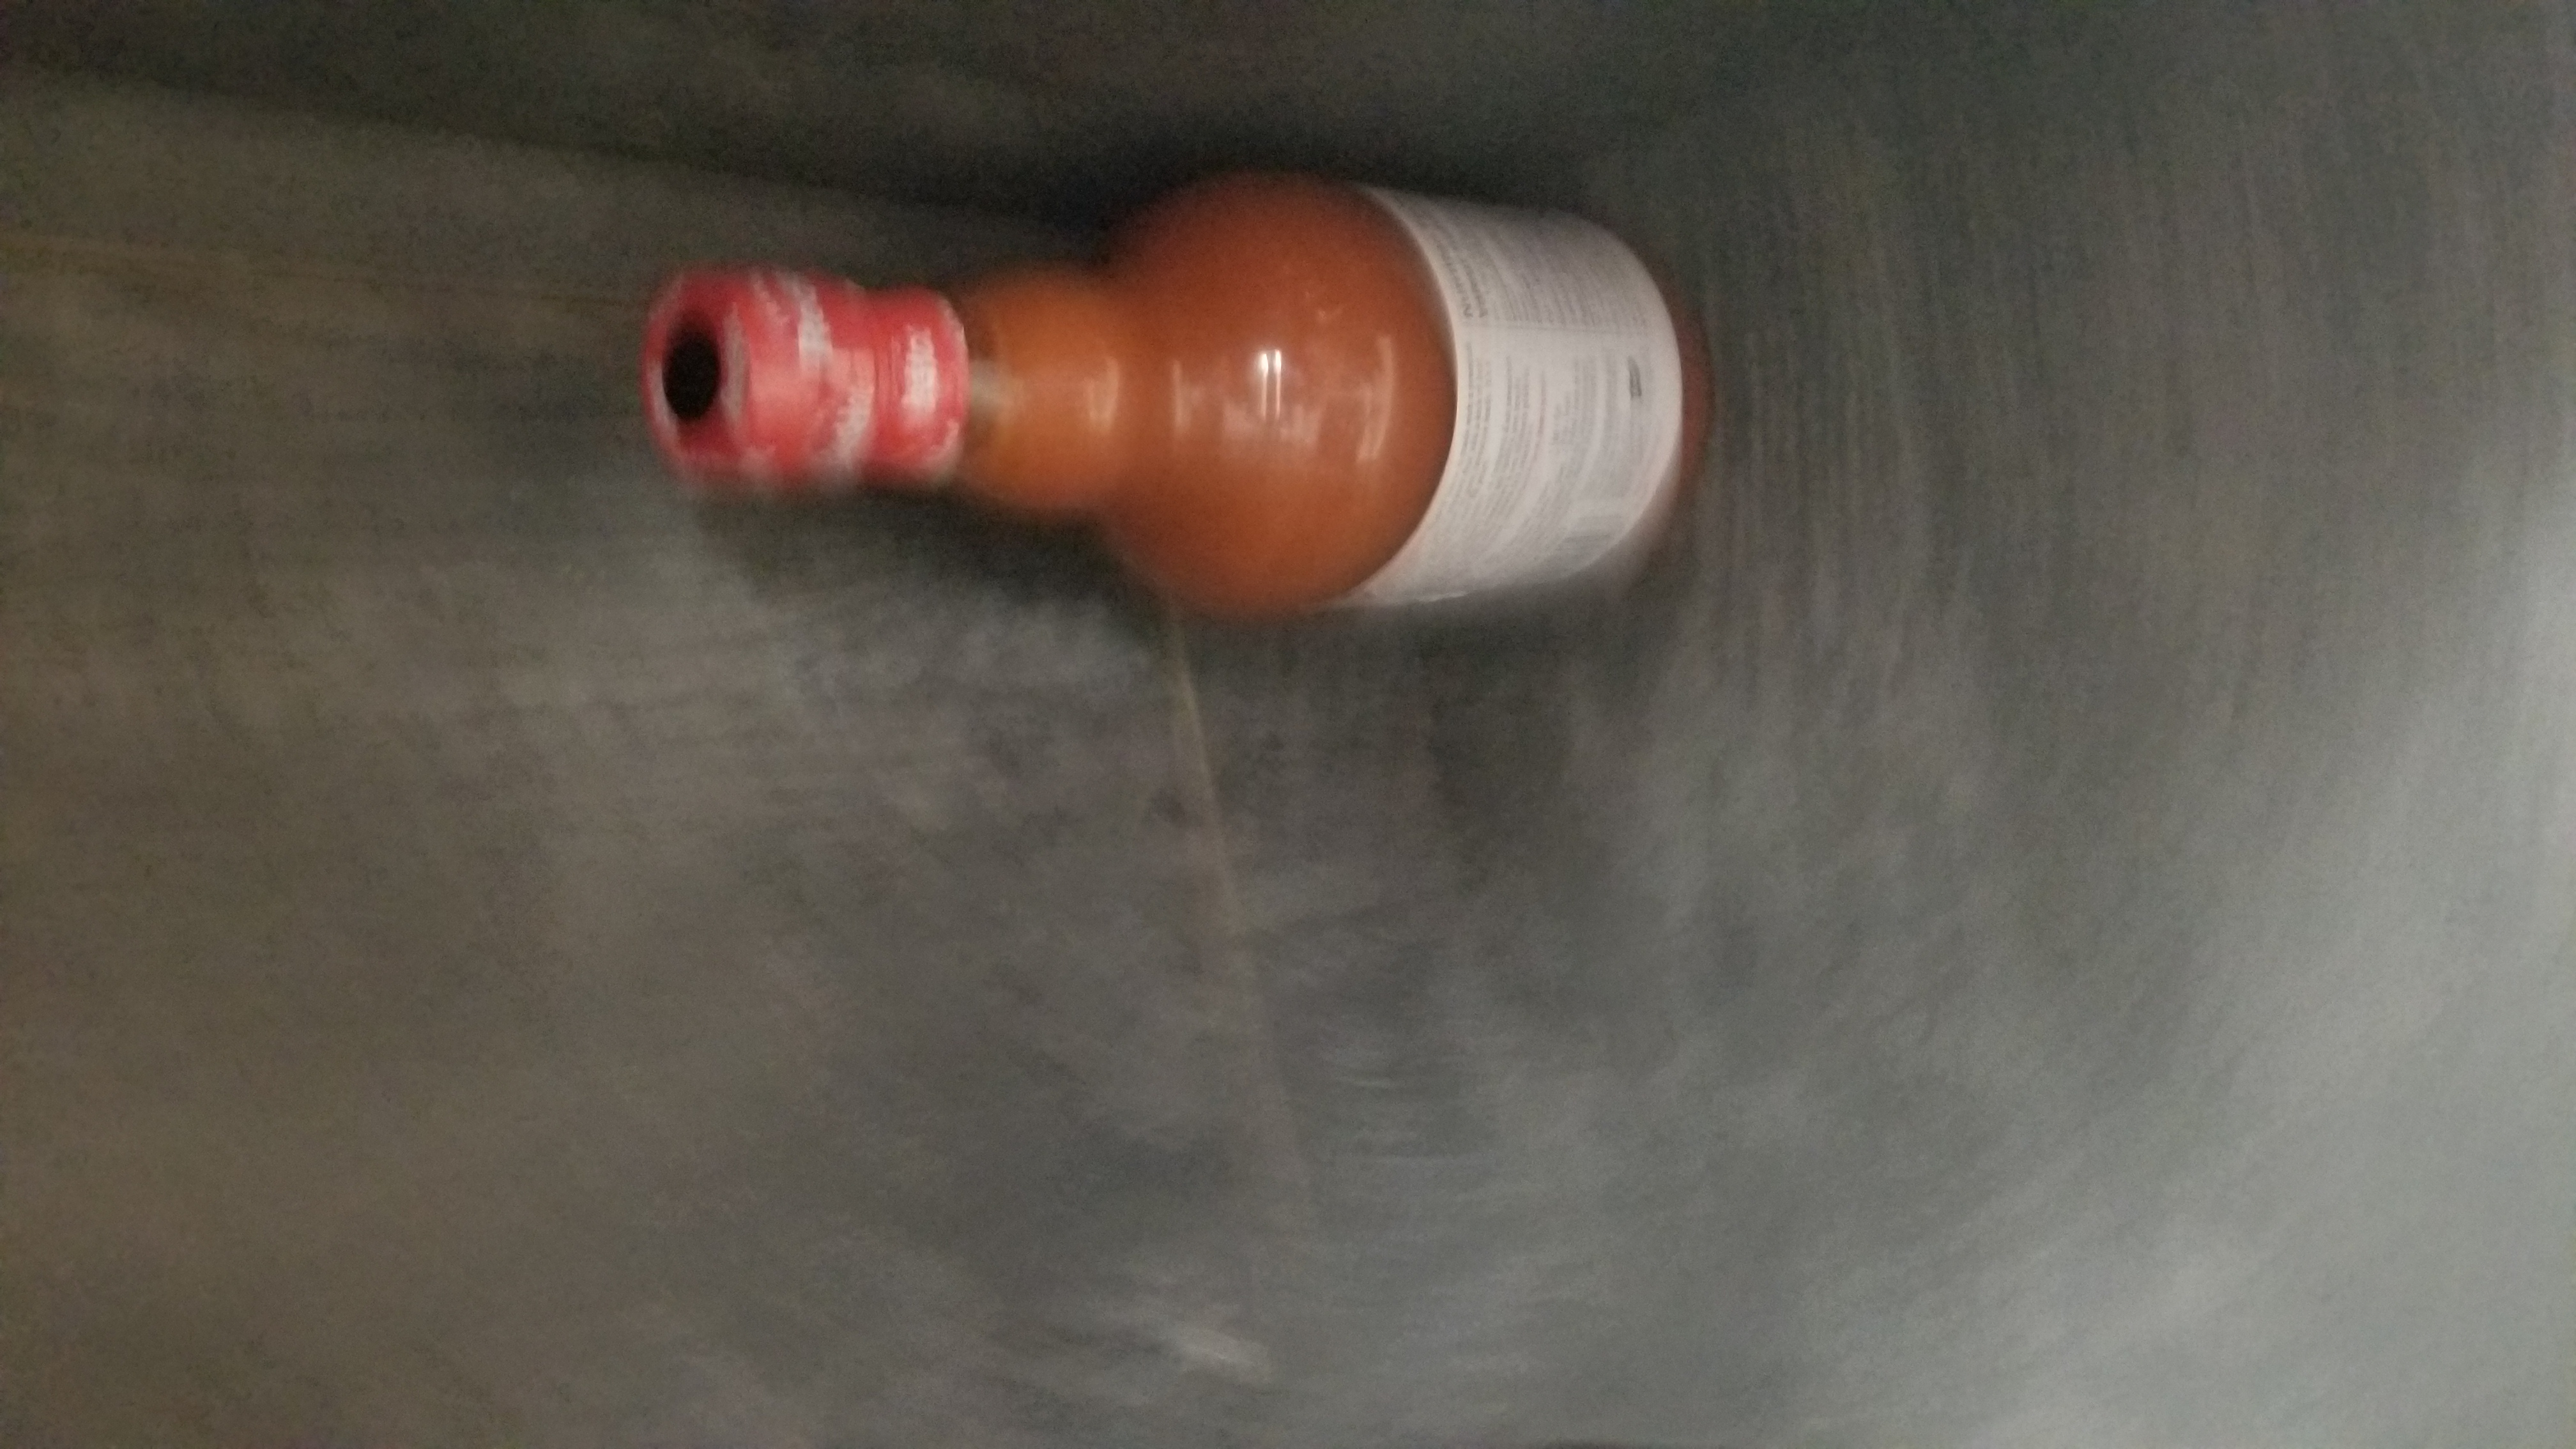hot sauce: (619, 157, 1750, 633)
